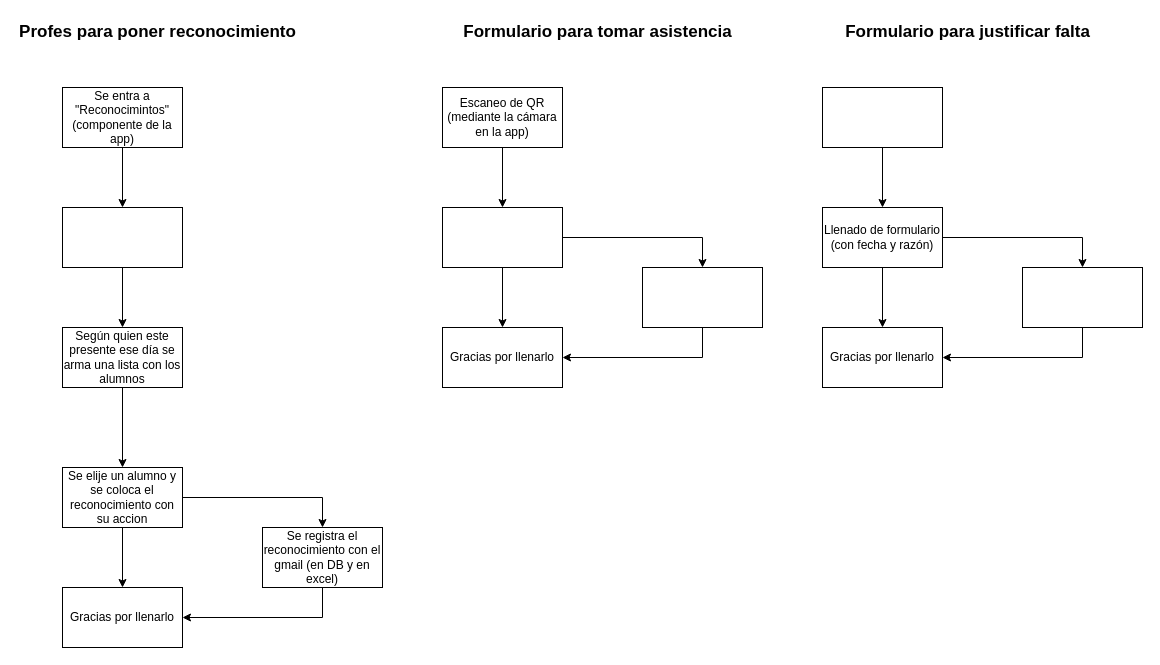
The diagram is 1160 pixels wide and 665 high, and some of its shapes have lost their labels. The box of each missing label's shape, as (x1, y1, x2, y2) in pixels:
Escaneo de QR (Dado por el preceptor): (822, 86, 942, 148)
Llenado de formulario: (442, 206, 562, 268)
Se coloca el curso: (62, 206, 182, 268)
Se registra la asistencia con el gmail (en DB y en excel): (642, 266, 762, 328)
Se registra la falta con el gmail (en DB y en excel): (1022, 266, 1142, 328)
